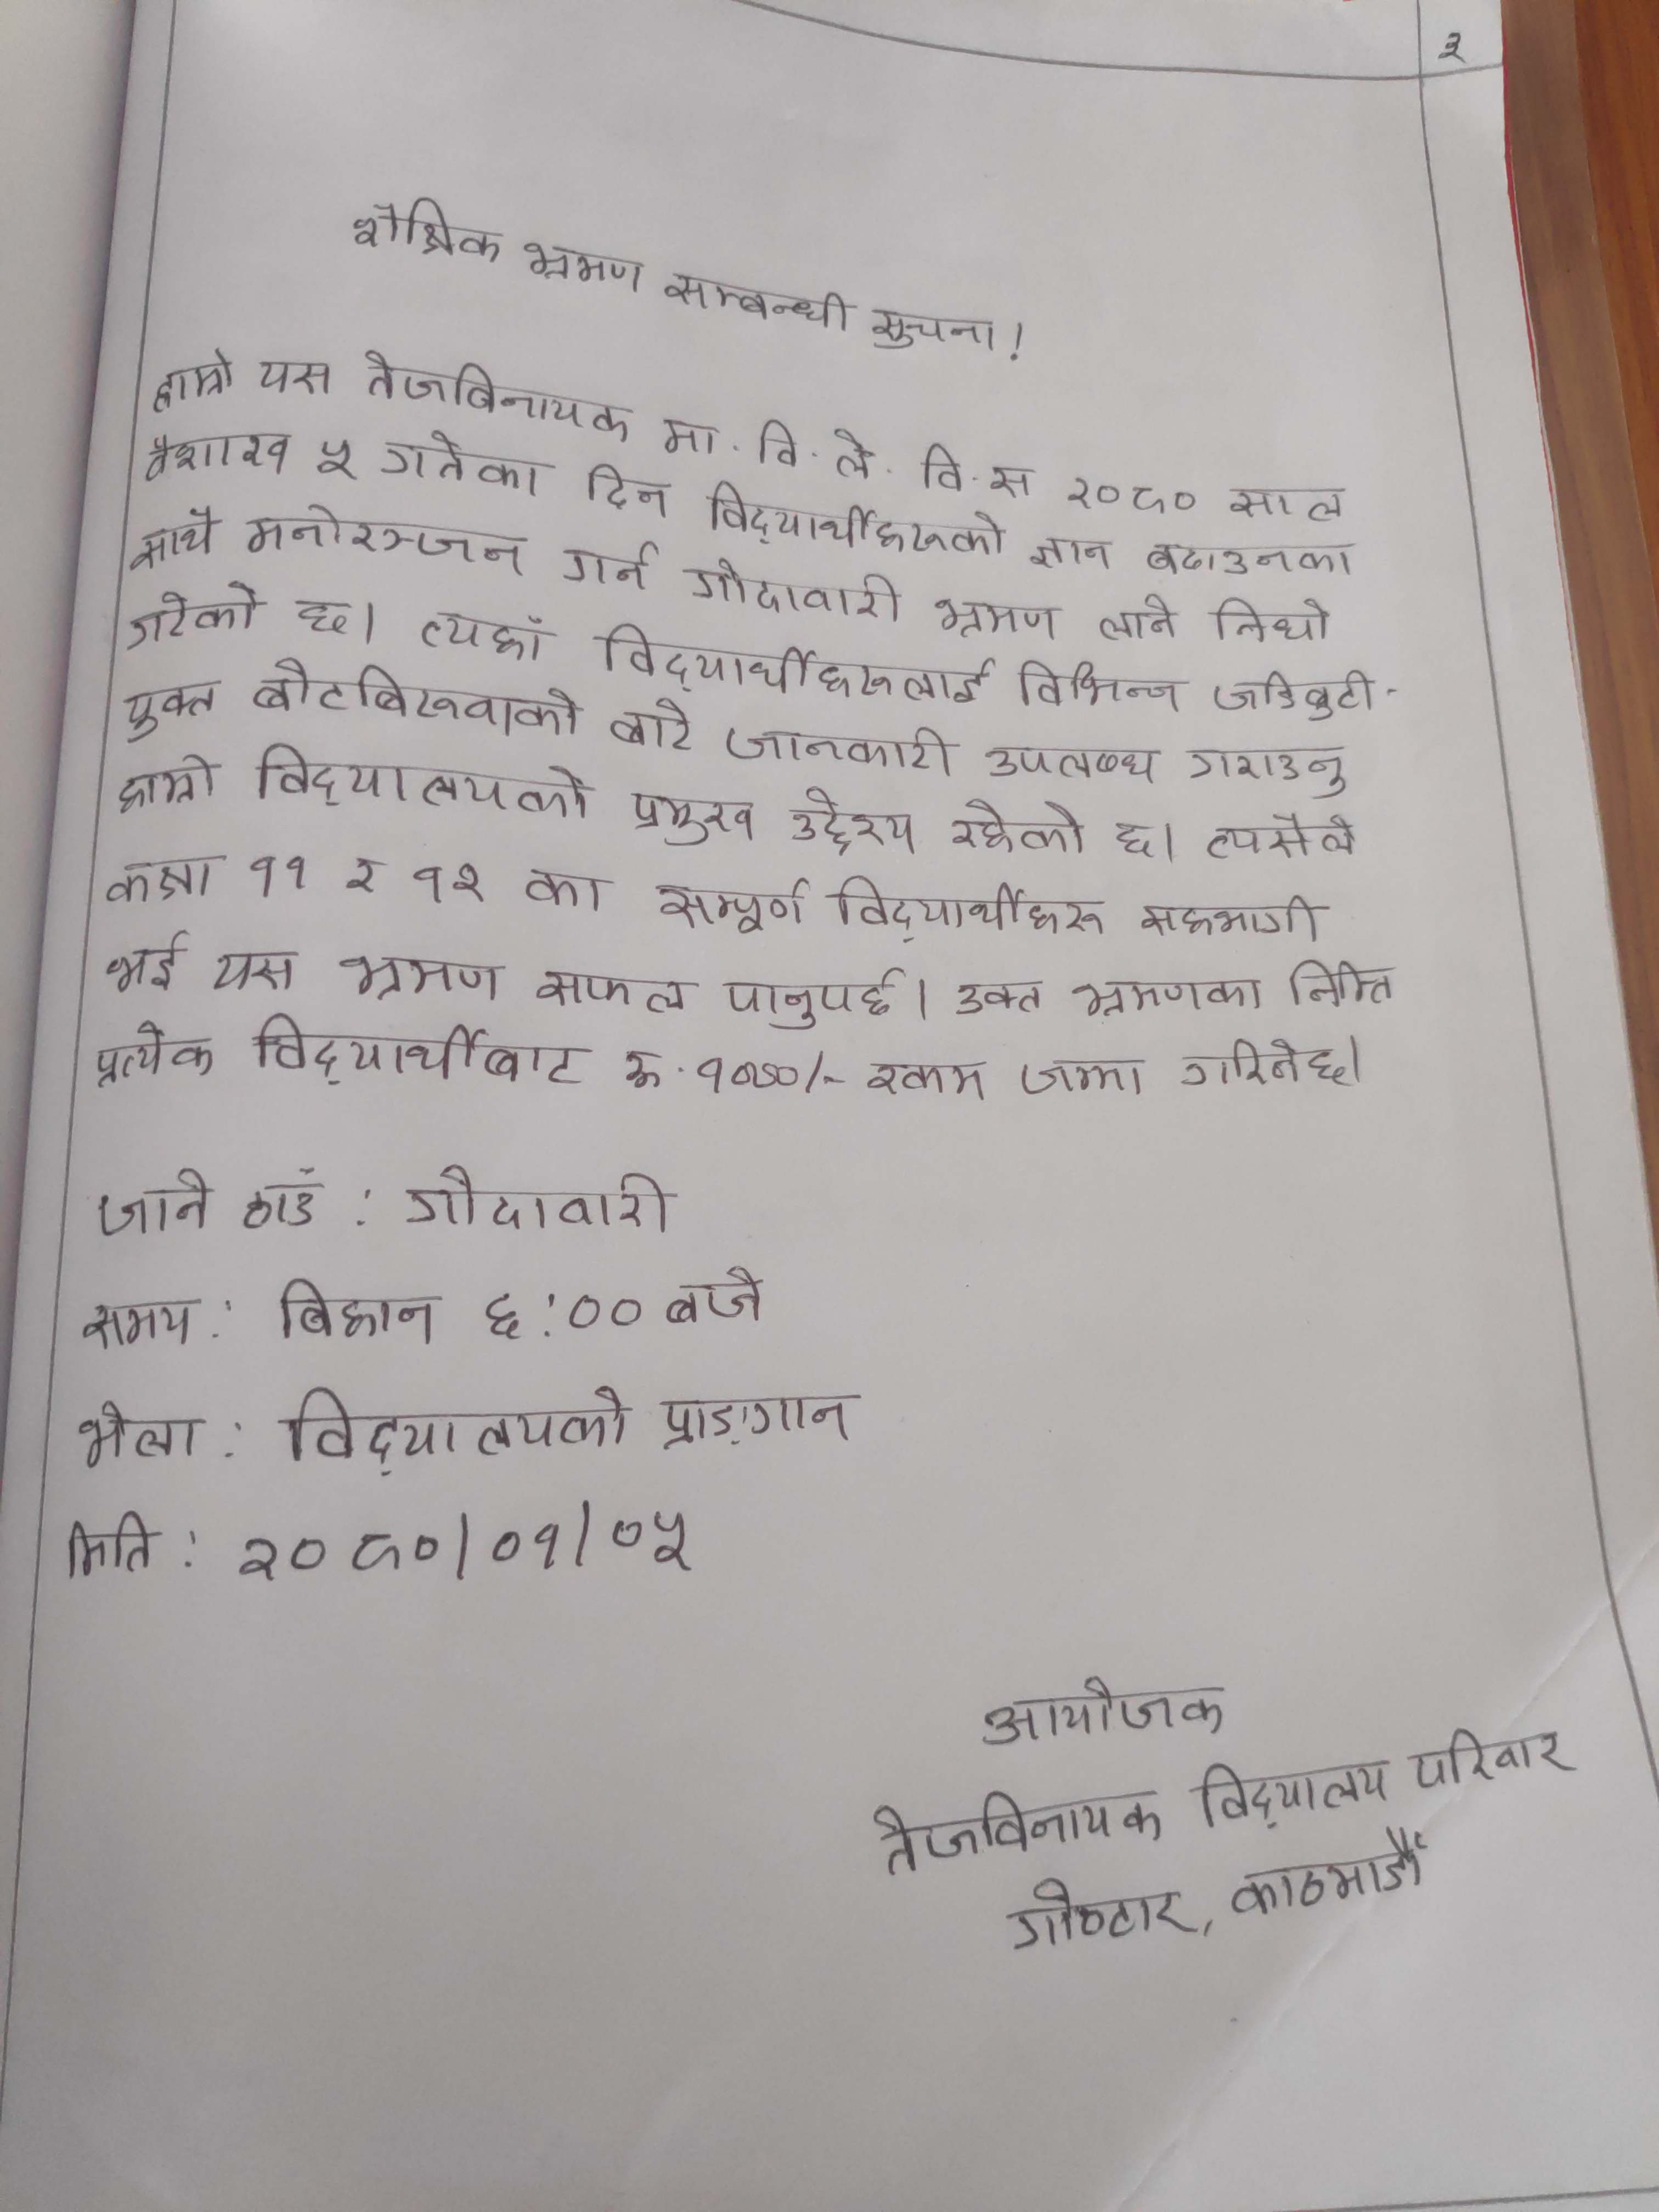text: (228, 1494, 699, 1587), (599, 620, 999, 712), (284, 1381, 629, 1470), (251, 651, 584, 738), (364, 341, 634, 444), (864, 1784, 1173, 1872), (247, 747, 592, 824), (246, 1014, 587, 1090), (706, 481, 1012, 563), (404, 1160, 674, 1244), (242, 500, 528, 577), (976, 1665, 1230, 1749), (833, 867, 1103, 942), (1220, 1834, 1443, 1923), (720, 712, 964, 787), (1190, 1757, 1394, 1831), (660, 413, 878, 481), (993, 1881, 1199, 1952), (1011, 643, 1190, 723), (681, 559, 904, 624), (662, 263, 854, 336), (1129, 878, 1331, 944), (617, 1042, 849, 1099), (277, 1273, 439, 1355), (382, 430, 547, 505), (723, 963, 908, 1029), (340, 195, 502, 268), (659, 1390, 857, 1449), (342, 946, 516, 1012), (1197, 805, 1373, 867), (779, 782, 924, 857), (1406, 1723, 1574, 1787), (1141, 529, 1361, 578), (648, 873, 819, 935), (1209, 662, 1380, 723), (1180, 744, 1351, 805), (941, 791, 1087, 860), (476, 1285, 647, 1345), (141, 428, 298, 491), (89, 1162, 213, 1240), (620, 784, 769, 846), (1068, 972, 1265, 1019), (71, 1402, 207, 1470), (979, 742, 1164, 791), (124, 585, 261, 650), (1209, 587, 1344, 651), (54, 1505, 157, 1587), (92, 1019, 216, 1087), (532, 967, 697, 1017), (416, 606, 549, 669), (519, 233, 647, 298), (1180, 1038, 1345, 1087), (1279, 953, 1405, 1014), (105, 848, 228, 909), (115, 674, 230, 738), (1060, 474, 1201, 526), (864, 300, 1000, 354), (125, 505, 218, 583), (917, 441, 1032, 503), (1016, 1052, 1154, 1104), (660, 1264, 770, 1329), (77, 1294, 202, 1350), (864, 1055, 992, 1109), (603, 693, 701, 763), (577, 456, 674, 524), (929, 592, 1065, 641), (1089, 587, 1192, 651), (148, 347, 242, 416), (559, 531, 664, 590), (113, 756, 223, 812), (101, 928, 192, 995), (1225, 479, 1351, 524), (207, 944, 301, 1003), (237, 1170, 321, 1237), (1021, 528, 1121, 580), (518, 866, 613, 920), (251, 352, 335, 406), (410, 857, 498, 907), (953, 977, 1044, 1026), (237, 853, 315, 907), (289, 589, 356, 646), (1101, 813, 1162, 866), (310, 434, 366, 484), (338, 852, 387, 907)
